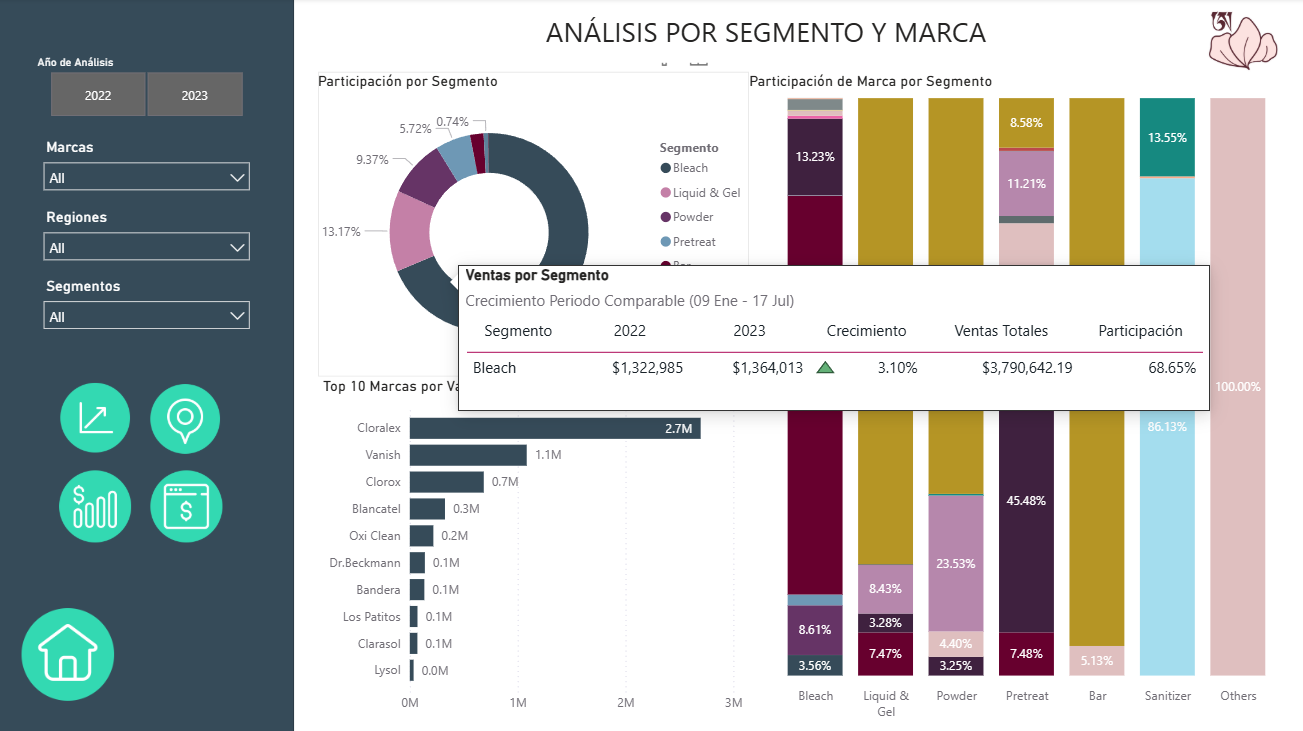

This screenshot's page, from the dashboard's own definition file:
{"tool":"powerbi","page":{"name":"Segmentos y Marcas","canvas":[1280,720],"ordinal":3},"visuals":[{"type":"donutChart","title":"Participación por Segmento","fields":{"Y":["DAX.Ventas Totales"],"Category":["DIM_SEGMENT.SEGMENT"]},"box":[312.9,72.7,422.6,297.8],"z":0},{"type":"hundredPercentStackedColumnChart","title":"Participación de Marca por Segmento","fields":{"Category":["DIM_SEGMENT.SEGMENT"],"Y":["DAX.Ventas Totales"],"Series":["DIM_PRODUCT.BRAND"]},"box":[735.5,72.7,533.8,636.7],"z":1000},{"type":"textbox","box":[386.4,9.8,730,53.8],"z":2000},{"type":"shape","box":[0,0,289.8,720.2],"z":3000},{"type":"clusteredBarChart","title":"Top 10 Marcas por Valor","fields":{"Y":["DAX.Ventas Totales"],"Category":["DIM_PRODUCT.BRAND"]},"box":[312.9,370.5,422.6,337.6],"z":4000},{"type":"image","title":"Resumen Ejecutivo","box":[18.3,588.2,100.3,107.6],"z":5000},{"type":"slicer","fields":{"Values":["DIM_CALENDAR.YEAR"]},"box":[26.1,50.8,237.4,71.4],"z":6000},{"type":"slicer","fields":{"Values":["DIM_PRODUCT.BRAND"]},"box":[34.3,131.7,222.3,68.6],"z":7000},{"type":"slicer","fields":{"Values":["FACT_SALES.REGION"]},"box":[34.3,200.3,222.3,67.2],"z":8000},{"type":"slicer","fields":{"Values":["DIM_SEGMENT.SEGMENT"]},"box":[34.3,267.6,222.3,65.9],"z":9000},{"type":"image","title":"Resumen Ejecutivo","box":[57.6,373.2,75.5,75.5],"z":10000},{"type":"image","title":"Región y Formato","box":[145.5,374.6,75.5,75.5],"z":11000},{"type":"image","title":"Detalle de Marca","box":[57.6,459.7,75.5,75.5],"z":12000},{"type":"image","title":"Tabla Completa","box":[146.8,459.7,75.5,75.5],"z":13000},{"type":"image","box":[1165,9.6,104.3,63.1],"z":14000}]}

Visuals, with their boxes in screenshot pixels (x1, y1, x2, y2), scaled from the page's 1280x720 canvas onto the 1303x731 screenshot:
"Participación por Segmento" donutChart: 319/74/749/376
"Participación de Marca por Segmento" hundredPercentStackedColumnChart: 749/74/1292/720
textbox: 393/10/1136/65
shape: 0/0/295/730
"Top 10 Marcas por Valor" clusteredBarChart: 319/376/749/719
"Resumen Ejecutivo" image: 19/597/121/706
slicer - DIM_CALENDAR.YEAR: 27/52/268/124
slicer - DIM_PRODUCT.BRAND: 35/134/261/203
slicer - FACT_SALES.REGION: 35/203/261/272
slicer - DIM_SEGMENT.SEGMENT: 35/272/261/339
"Resumen Ejecutivo" image: 59/379/135/456
"Región y Formato" image: 148/380/225/457
"Detalle de Marca" image: 59/467/135/543
"Tabla Completa" image: 149/467/226/543
image: 1186/10/1292/74
